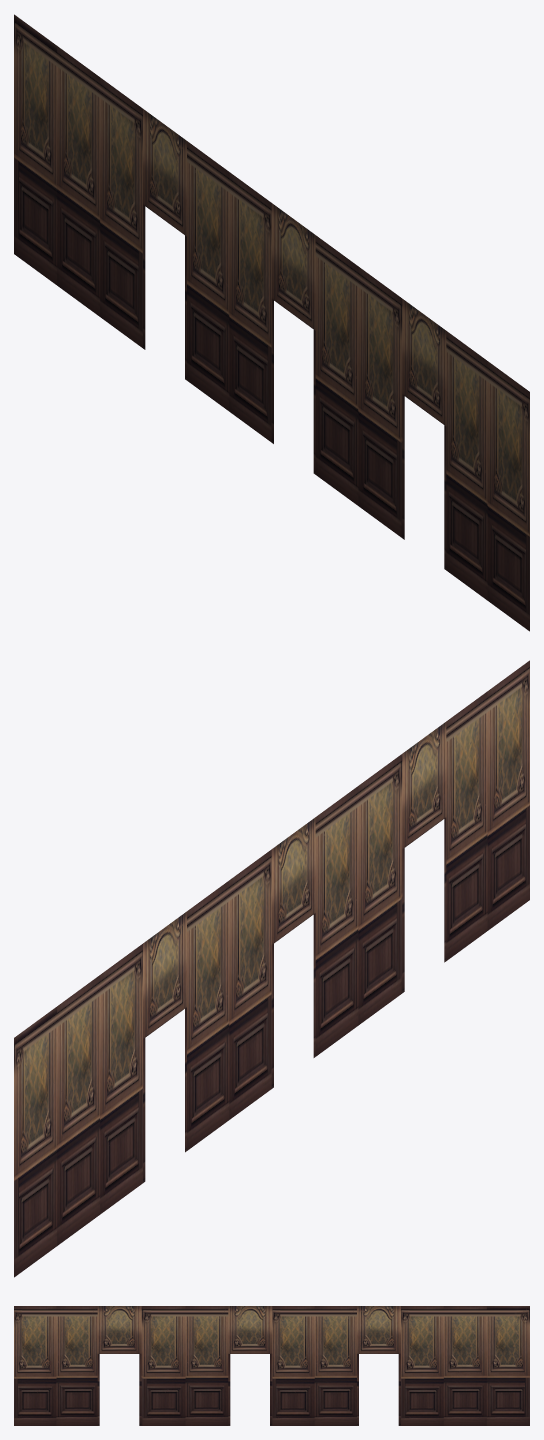
File: long_wall.glb
3 renders of one model, top to bottom at view 1: azimuth 30°, elevation 25°; view 2: azimuth 150°, elevation 25°; view 3: azimuth 270°, elevation 25°, orthographic. The views are drawn at different scales.
Parts seen in each view (by area): view 1: Piano, Piano.002, Piano.001, Piano.003; view 2: Piano, Piano.001, Piano.002, Piano.003; view 3: Piano, Piano.001, Piano.002, Piano.003.
Boxes of the visible parts, bbox=[...] form: Piano: bbox=[14, 14, 529, 631]; Piano.002: bbox=[271, 203, 315, 474]; Piano.001: bbox=[402, 299, 446, 569]; Piano.003: bbox=[143, 109, 186, 380]; Piano: bbox=[14, 660, 529, 1277]; Piano.001: bbox=[402, 722, 446, 992]; Piano.002: bbox=[271, 817, 315, 1088]; Piano.003: bbox=[143, 911, 186, 1182]; Piano: bbox=[14, 1306, 529, 1425]; Piano.001: bbox=[97, 1306, 141, 1425]; Piano.002: bbox=[228, 1306, 272, 1425]; Piano.003: bbox=[357, 1306, 400, 1425].
Bounding box in the file's own units: 1.11e-15 × 5 × 19.5.
Materials: 4 (4 with a texture image).
